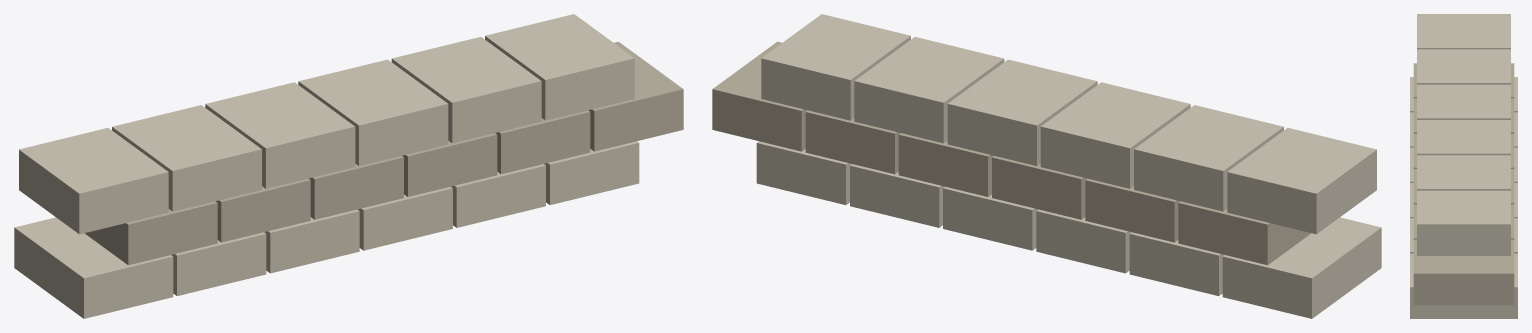
File: trench-line-1917-parapet-sandbags-3e08455c__24046.glb
3 views of the same model, side by side, from view 1: azimuth 30°, elevation 25°; view 2: azimuth 150°, elevation 25°; view 3: azimuth 270°, elevation 25° (orthographic). The views are drawn at different scales.
Parts seen in each view (by area): view 1: parapet-sandbags; view 2: parapet-sandbags; view 3: parapet-sandbags.
Boxes of the visible parts, x1,y1,x2,y2 form: parapet-sandbags: [14, 14, 683, 318]; parapet-sandbags: [712, 14, 1381, 318]; parapet-sandbags: [1410, 14, 1517, 318].
Size of the model in its own units: 3.1 by 0.5998 by 0.6201.
